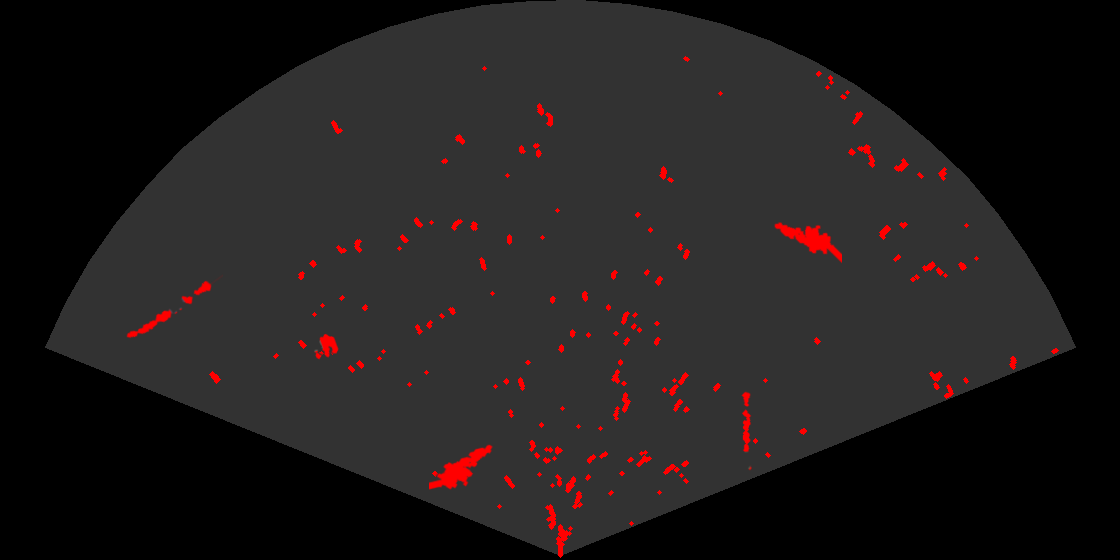ball: (313, 332, 340, 361)
chain: (125, 273, 223, 340), (740, 391, 753, 471)
frogman: (429, 443, 495, 491), (773, 220, 842, 265)
